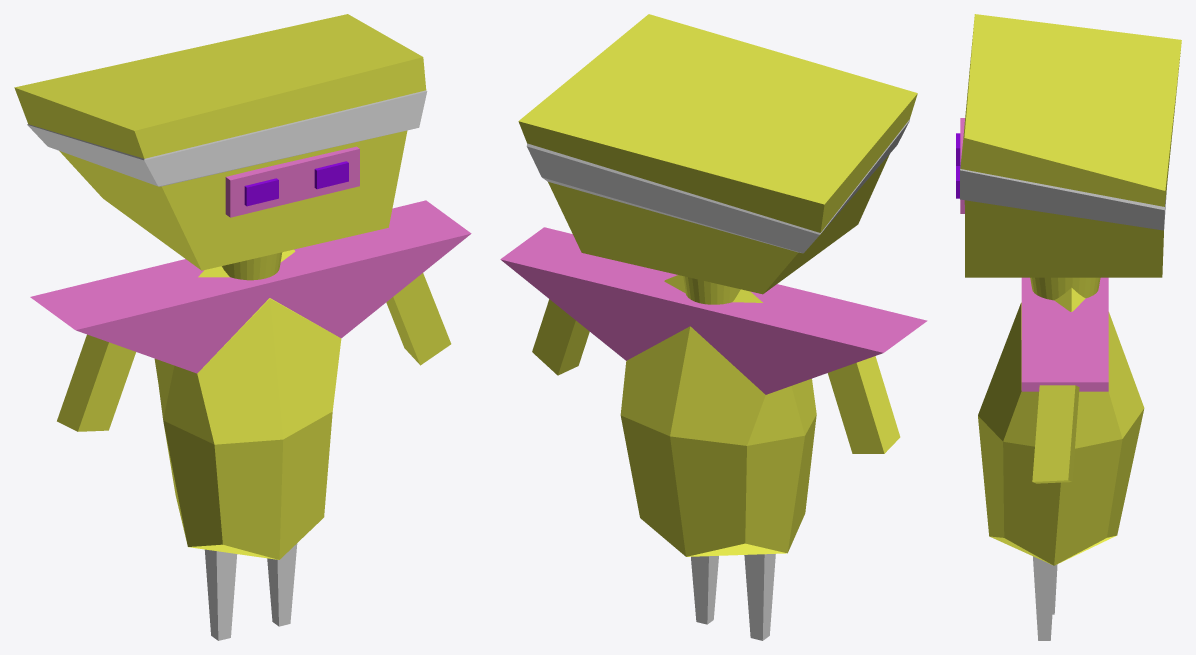
File: yellow-partier.gltf
3 renders of one model, left to right at view 1: azimuth 30°, elevation 25°; view 2: azimuth 150°, elevation 25°; view 3: azimuth 270°, elevation 25°, orthographic. The views are drawn at different scales.
Parts seen in each view (by area): view 1: eye1; view 2: eye1; view 3: eye1.
Part boxes in pixels (x1=…): eye1: x1=14, y1=14, x2=471, y2=640; eye1: x1=500, y1=14, x2=927, y2=640; eye1: x1=956, y1=14, x2=1181, y2=640.
Size of the model in its own units: 44.33 by 61.25 by 22.88.
